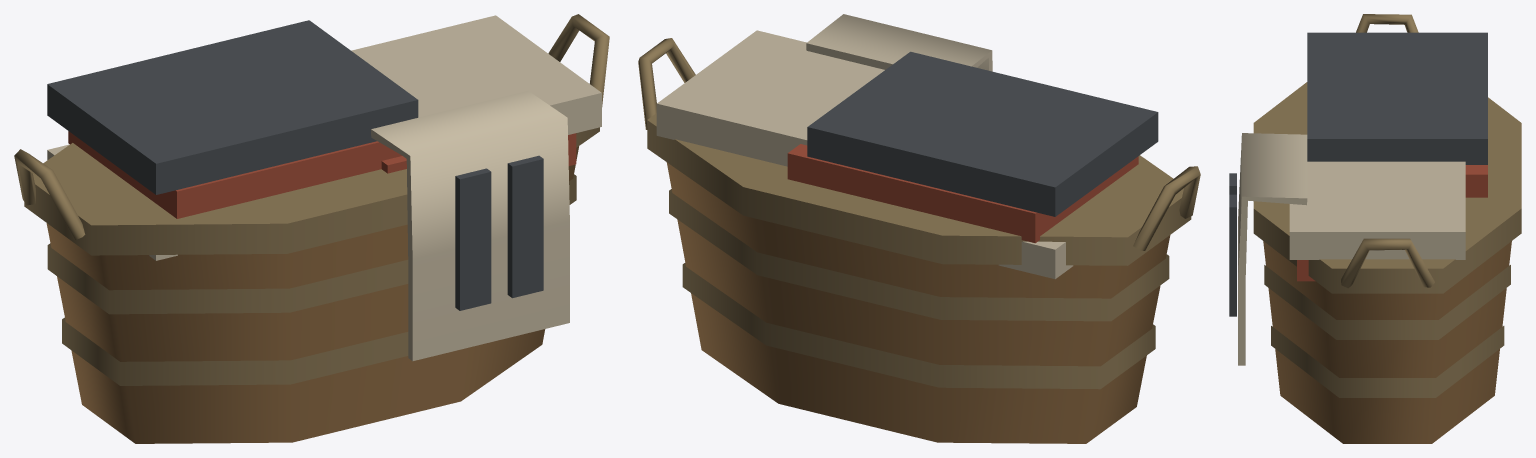
Rendered from laundry_basket.glb.
The picture shows the model from 3 angles, left to right: view 1: azimuth 30°, elevation 25°; view 2: azimuth 150°, elevation 25°; view 3: azimuth 270°, elevation 25°; orthographic projection. The views are drawn at different scales.
Parts seen in each view (by area): view 1: laundry_basket; view 2: laundry_basket; view 3: laundry_basket.
Boxes of the visible parts, x1,y1,x2,y2 form: laundry_basket: (14, 14, 609, 443); laundry_basket: (638, 14, 1200, 443); laundry_basket: (1229, 14, 1521, 443).
Bounding box in the file's own units: 1.09 × 0.54 × 0.5818.
